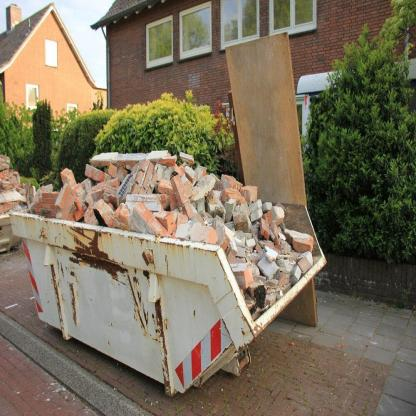brick: (0, 152, 314, 320)
